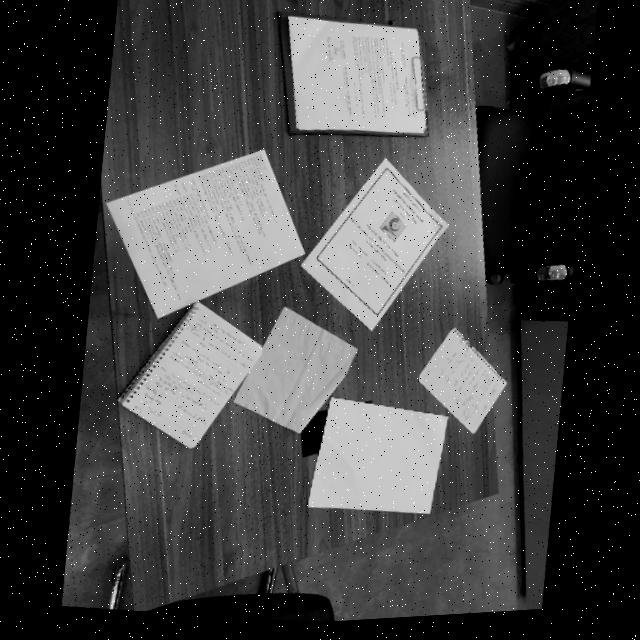document: (107, 150, 304, 318), (301, 158, 448, 330), (117, 301, 261, 447), (288, 16, 426, 133), (418, 327, 506, 433)
